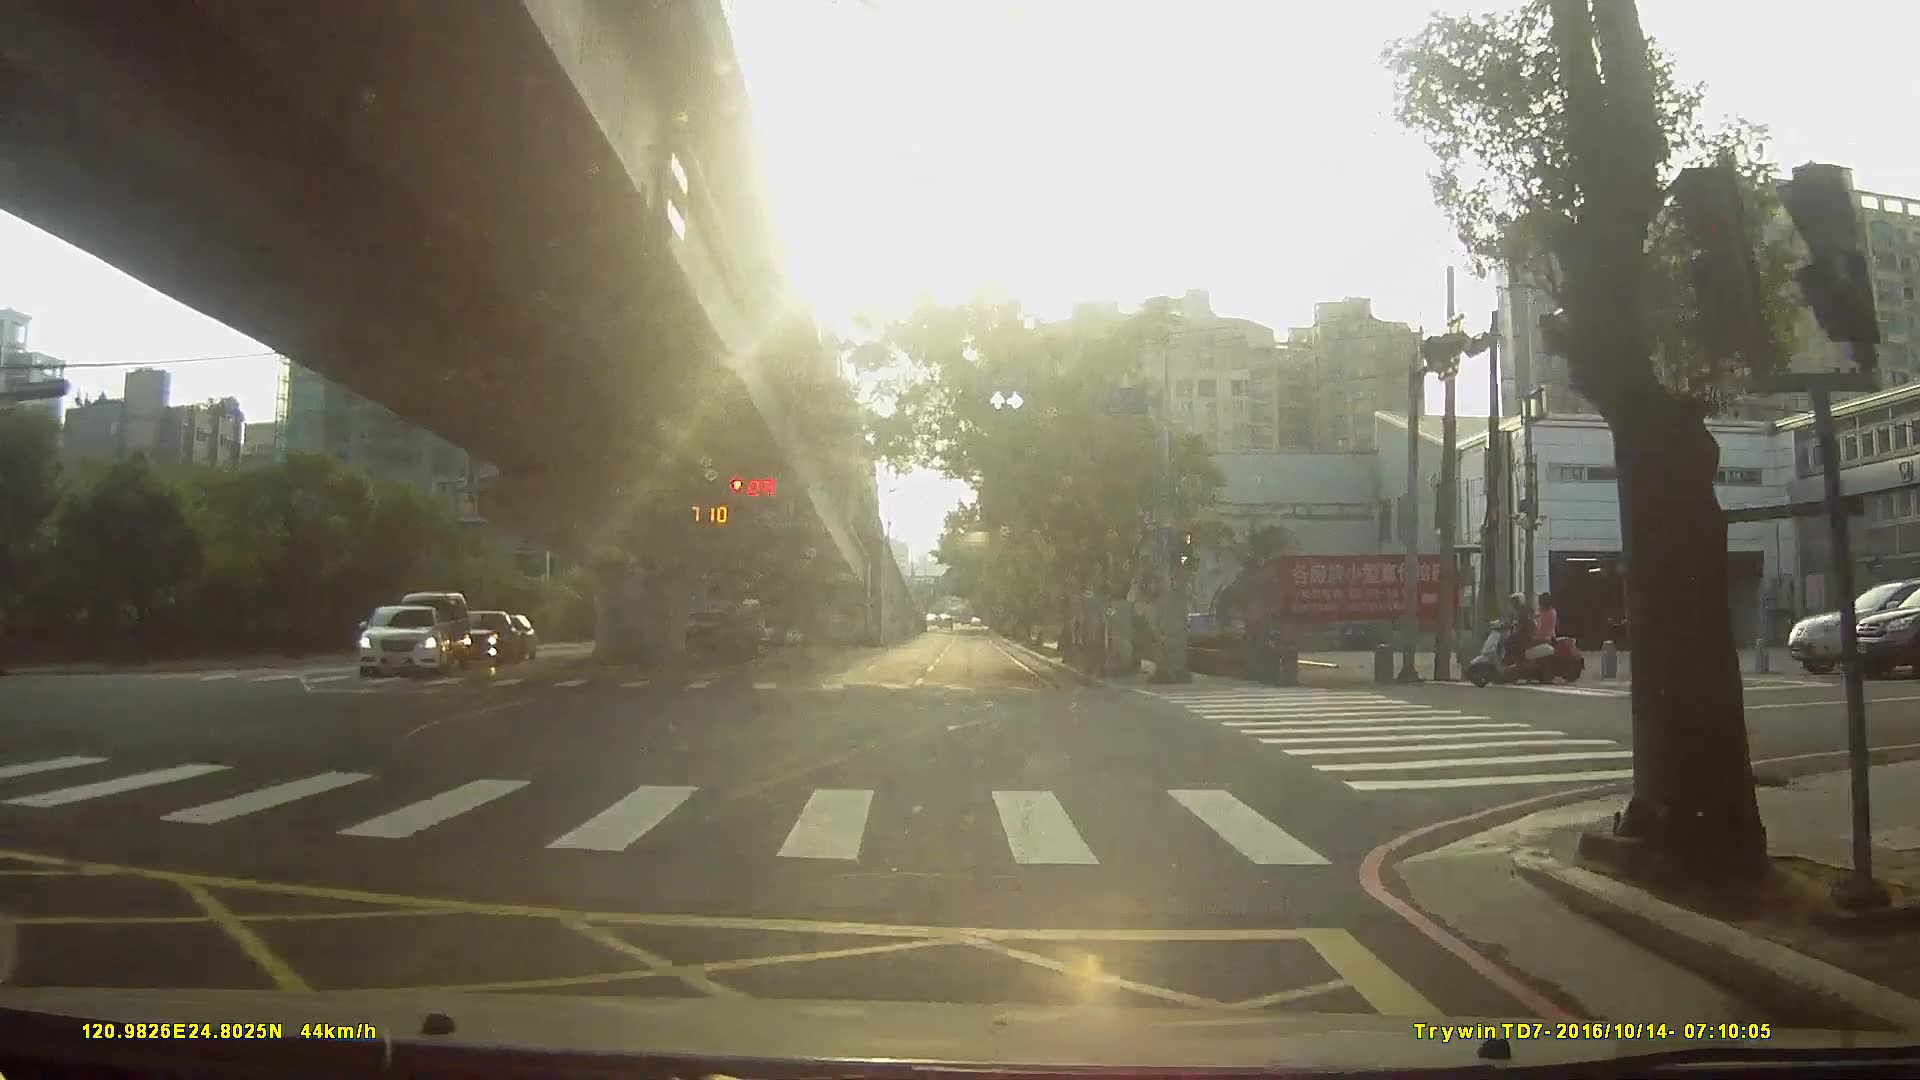rider: (1469, 589, 1558, 685)
vehicle: (1796, 578, 1920, 679), (350, 605, 443, 681), (657, 606, 763, 669), (445, 608, 519, 667)
